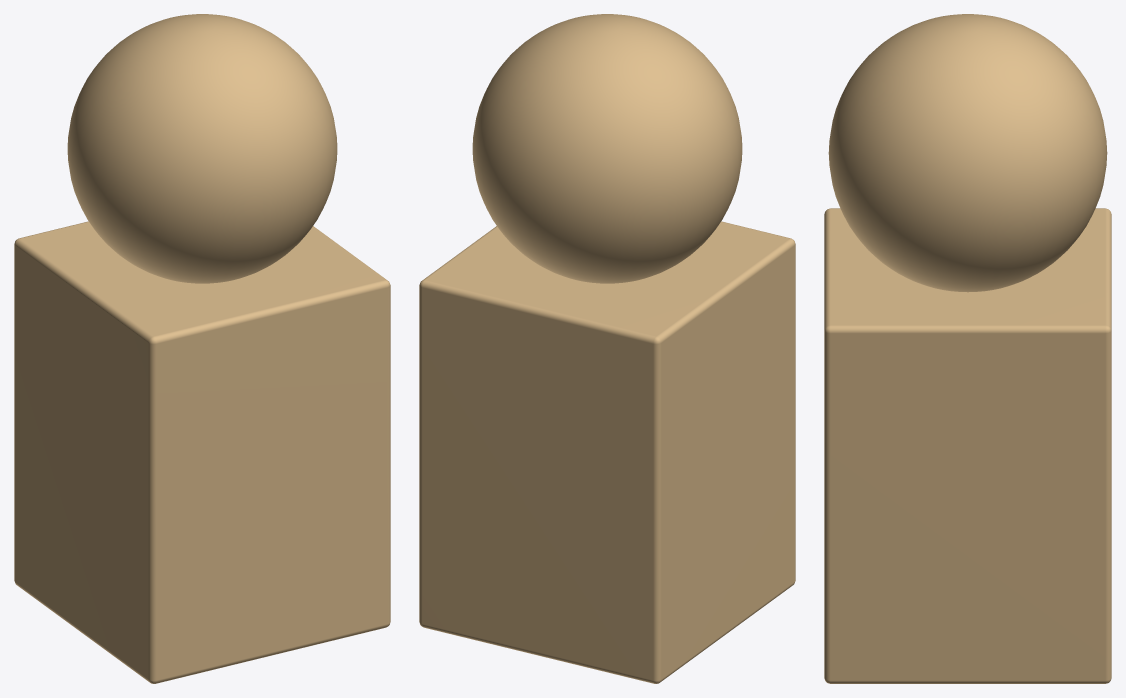
The model's file is queen.glb.
The picture shows the model from 3 angles, left to right: view 1: azimuth 30°, elevation 25°; view 2: azimuth 150°, elevation 25°; view 3: azimuth 270°, elevation 25°; orthographic projection. The views are drawn at different scales.
Visible parts, largest first — view 1: Bauhaus-inspired queen.001; view 2: Bauhaus-inspired queen.001; view 3: Bauhaus-inspired queen.001.
Part boxes in pixels (x1,y1,x2,y2): Bauhaus-inspired queen.001: [14, 14, 390, 683]; Bauhaus-inspired queen.001: [419, 14, 795, 683]; Bauhaus-inspired queen.001: [824, 14, 1111, 683].
Bounding box in the file's own units: 0.032 × 0.0735 × 0.032.
